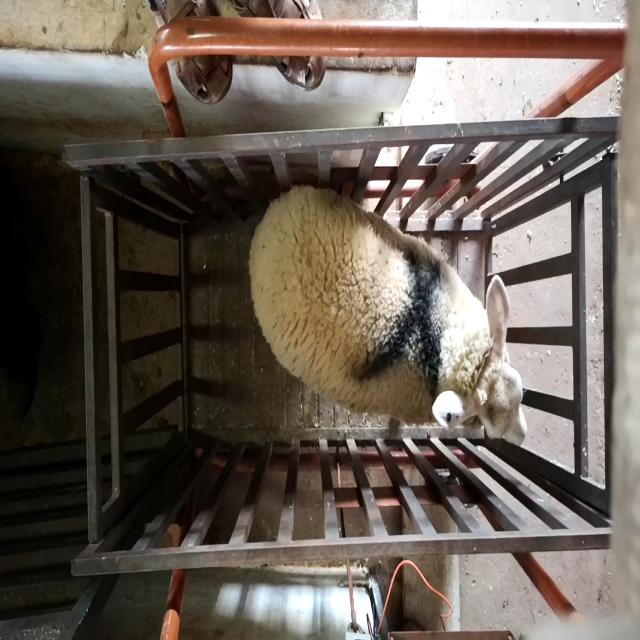sheep: (248, 186, 528, 445)
